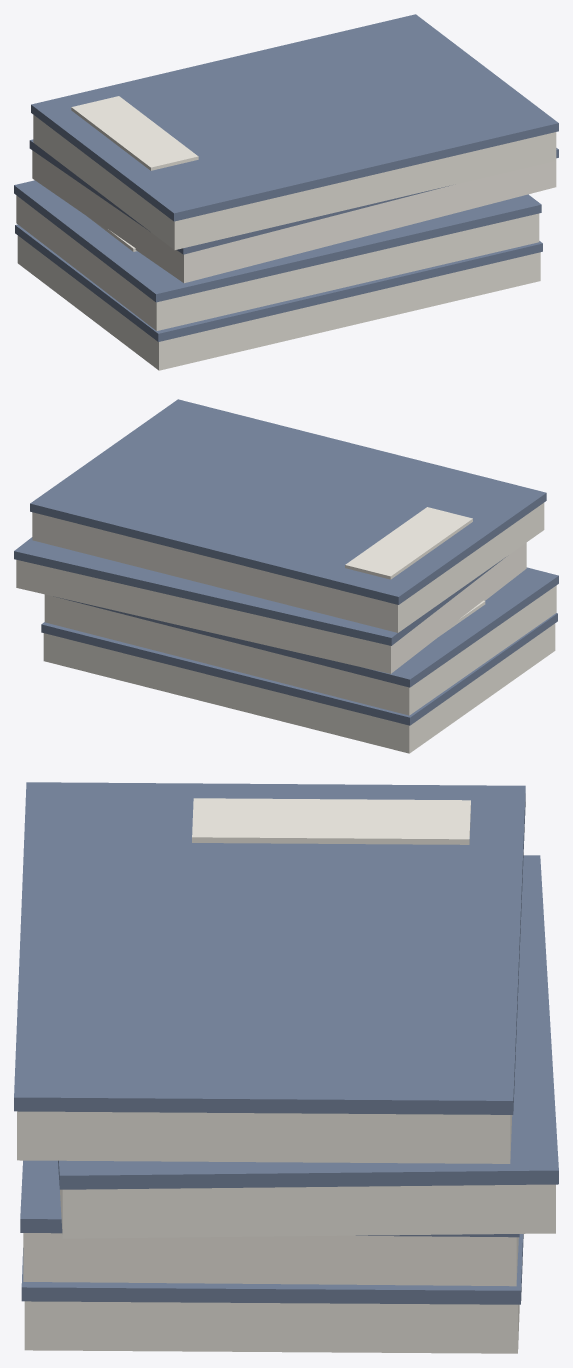
Rendered from sg_books.glb.
The picture shows the model from 3 angles, top to bottom: view 1: azimuth 30°, elevation 25°; view 2: azimuth 150°, elevation 25°; view 3: azimuth 270°, elevation 25°; orthographic projection. The views are drawn at different scales.
Visible parts, largest first — view 1: cover3, pages0, pages1, pages3, pages2, cover1, cover0, label3, cover2; view 2: cover3, pages0, pages3, pages1, pages2, cover2, cover1, cover0, label3; view 3: cover3, pages0, pages2, pages3, pages1, cover2, label3, cover0, cover1.
Part boxes in pixels (x1=…): cover3: x1=31, y1=14, x2=558, y2=221; pages0: x1=17, y1=235, x2=540, y2=370; pages1: x1=16, y1=195, x2=539, y2=330; pages3: x1=33, y1=115, x2=556, y2=249; pages2: x1=32, y1=150, x2=556, y2=283; cover1: x1=14, y1=180, x2=541, y2=302; cover0: x1=15, y1=224, x2=542, y2=341; label3: x1=71, y1=96, x2=198, y2=170; cover2: x1=29, y1=139, x2=558, y2=254; cover3: x1=30, y1=399, x2=546, y2=604; pages0: x1=43, y1=623, x2=555, y2=753; pages3: x1=32, y1=503, x2=544, y2=632; pages1: x1=44, y1=585, x2=556, y2=715; pages2: x1=16, y1=542, x2=526, y2=673; cover2: x1=14, y1=537, x2=505, y2=645; cover1: x1=53, y1=567, x2=558, y2=687; cover0: x1=41, y1=613, x2=557, y2=725; label3: x1=345, y1=507, x2=472, y2=579; cover3: x1=14, y1=782, x2=525, y2=1114; pages0: x1=24, y1=1301, x2=519, y2=1353; pages2: x1=60, y1=1184, x2=555, y2=1238; pages3: x1=17, y1=1111, x2=512, y2=1163; pages1: x1=23, y1=1233, x2=518, y2=1286; cover2: x1=58, y1=855, x2=558, y2=1189; label3: x1=192, y1=798, x2=470, y2=844; cover0: x1=21, y1=1234, x2=523, y2=1304; cover1: x1=20, y1=1160, x2=519, y2=1237.
Bounding box in the file's own units: 0.2603 × 0.097 × 0.1768.
